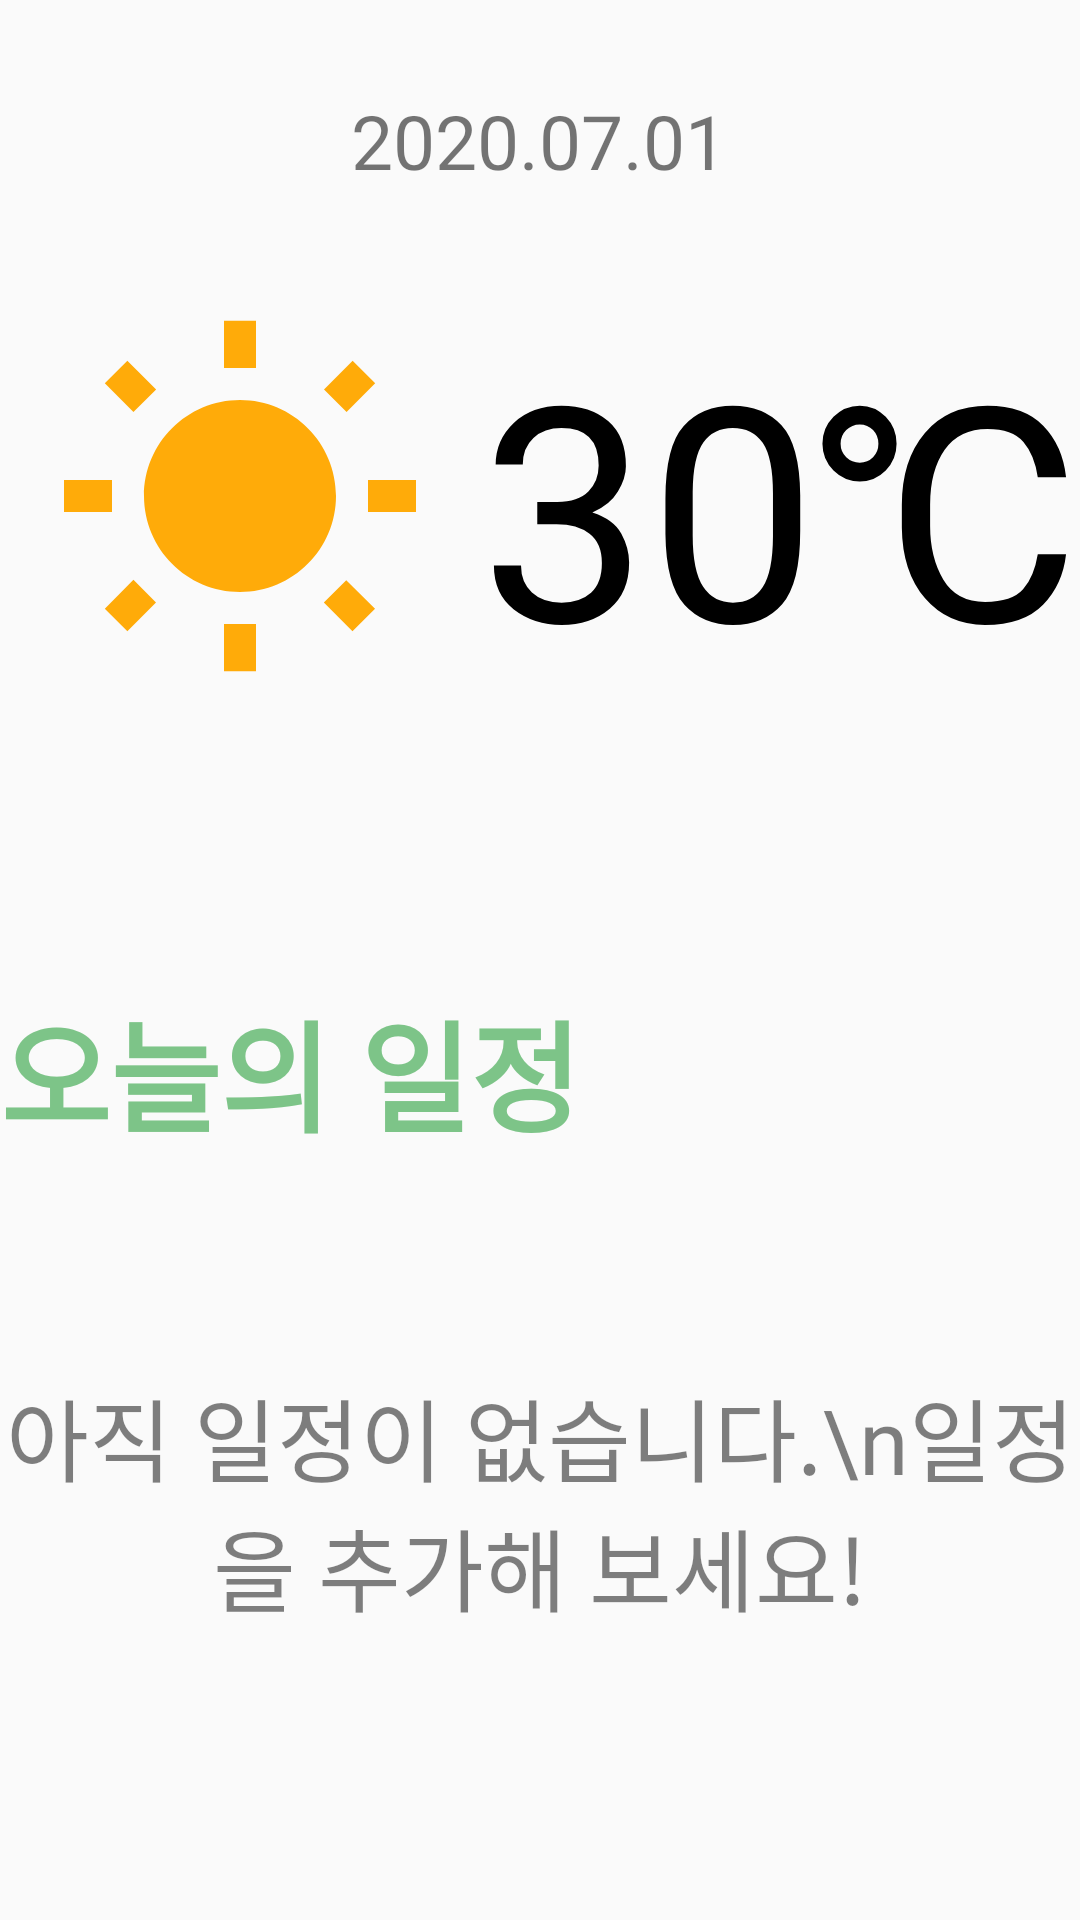

Icon bounding boxes for this 1080×1920 phone screenshot, format [x1=x1, y1=y1, x2=x2, y2=y2]:
sunny: [x1=64, y1=320, x2=416, y2=672]
